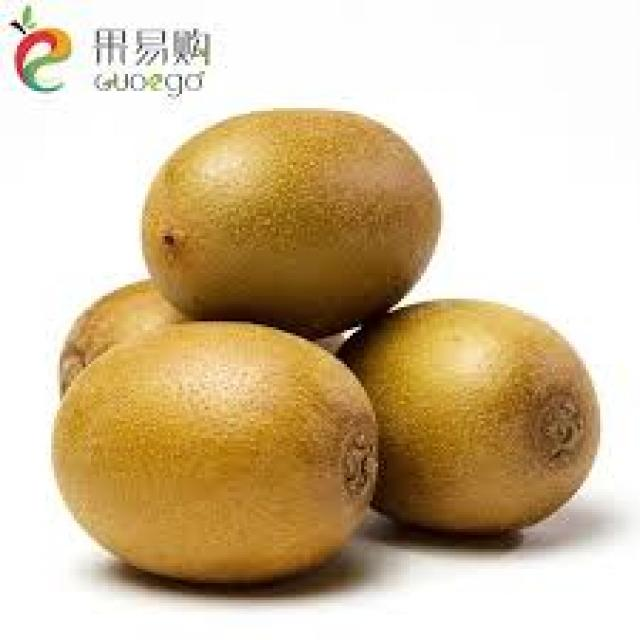organic waste: (48, 316, 376, 583), (139, 105, 438, 338), (330, 298, 597, 538), (57, 276, 341, 407)
